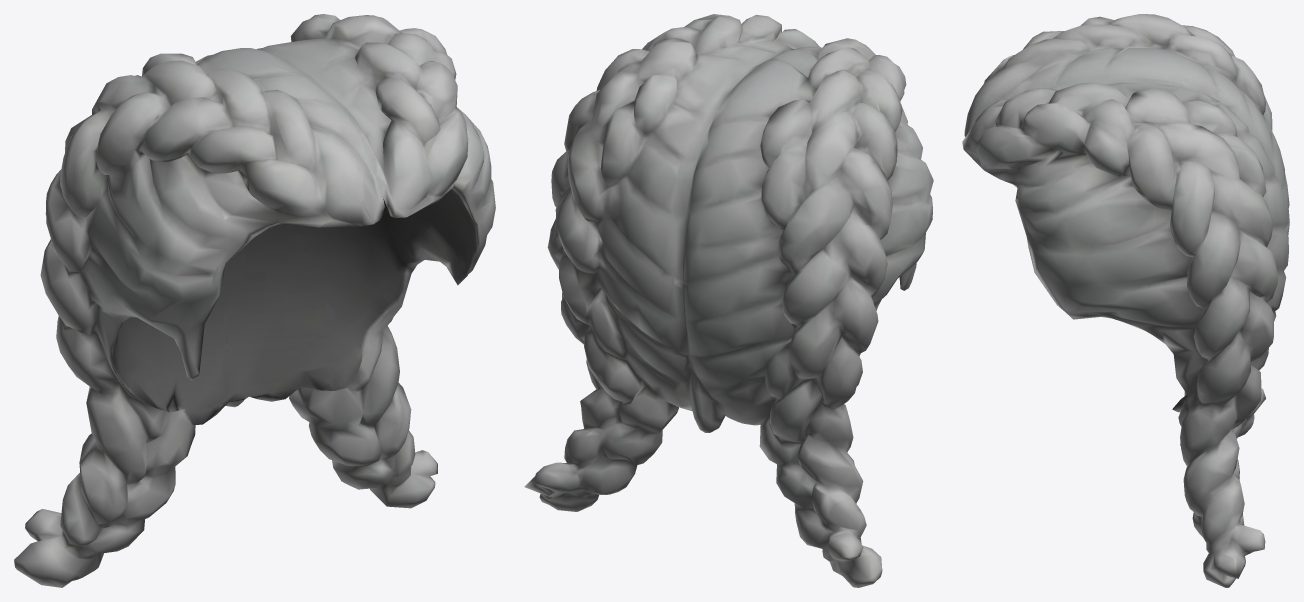
Rendered from hair-braids.glb.
3 views of the same model, side by side, from view 1: azimuth 30°, elevation 25°; view 2: azimuth 150°, elevation 25°; view 3: azimuth 270°, elevation 25° (orthographic). The views are drawn at different scales.
Visible parts, largest first — view 1: hair-braids; view 2: hair-braids; view 3: hair-braids.
Part boxes in pixels (x1,y1,x2,y2): hair-braids: (14, 14, 495, 587); hair-braids: (524, 14, 933, 587); hair-braids: (962, 14, 1289, 587).
Size of the model in its own units: 0.8097 by 1 by 0.6491.
1 material, 1 textured.
